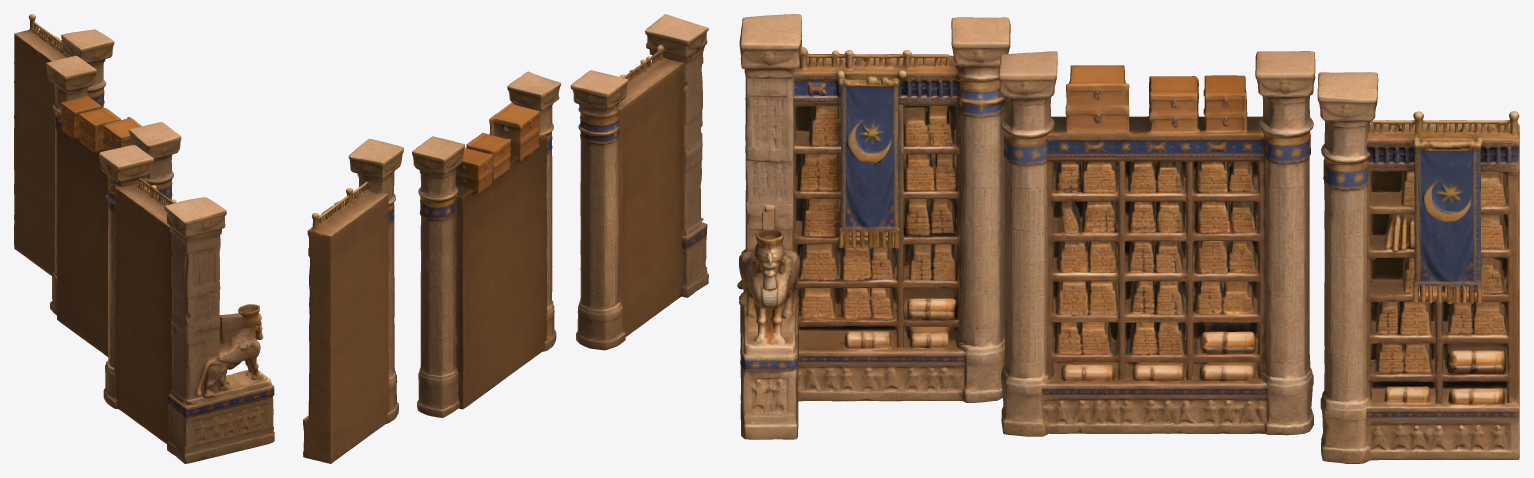
The model's file is رفوف الارشيف.glb.
3 views of the same model, side by side, from view 1: azimuth 30°, elevation 25°; view 2: azimuth 150°, elevation 25°; view 3: azimuth 270°, elevation 25° (orthographic). The views are drawn at different scales.
Visible parts, largest first — view 1: world; view 2: world; view 3: world.
Boxes of the visible parts, x1,y1,x2,y2 form: world: (14,14,274,463); world: (303,14,708,463); world: (737,14,1519,463).
Size of the model in its own units: 0.2763 by 0.5228 by 0.9998.
1 material, 1 textured.
